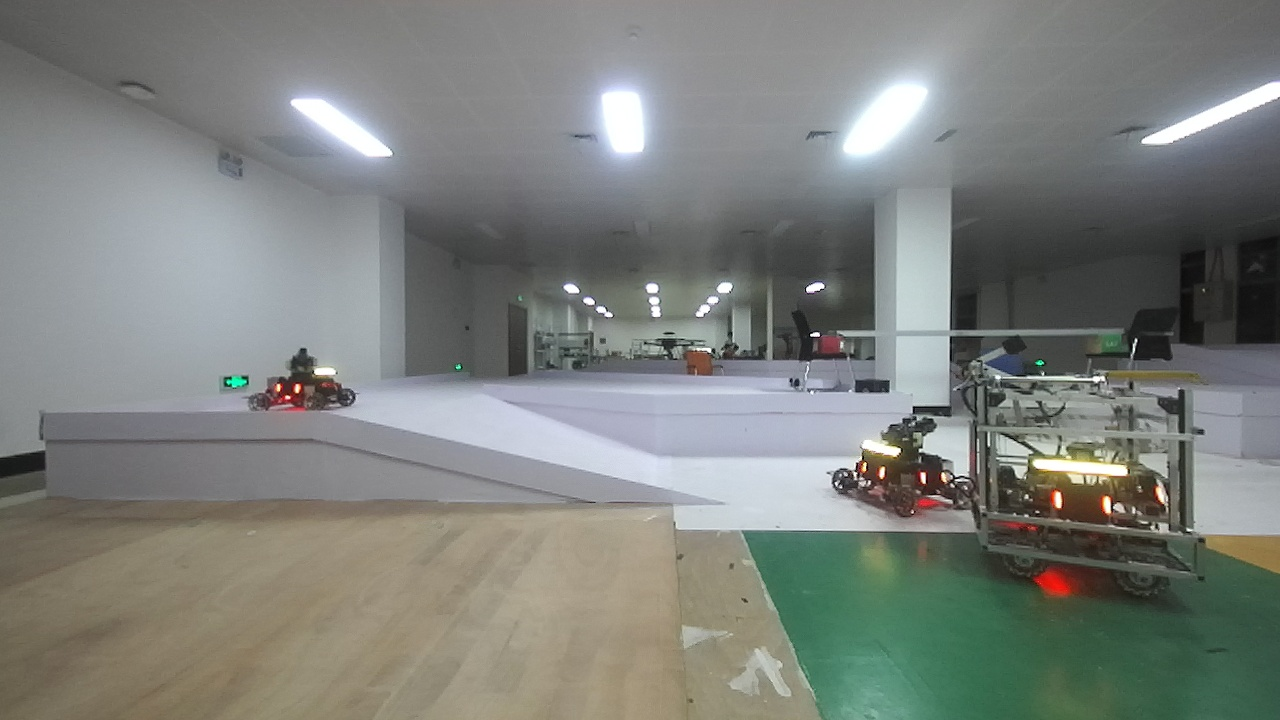car: (967, 347, 1226, 606), (835, 413, 978, 518), (250, 338, 370, 421)
